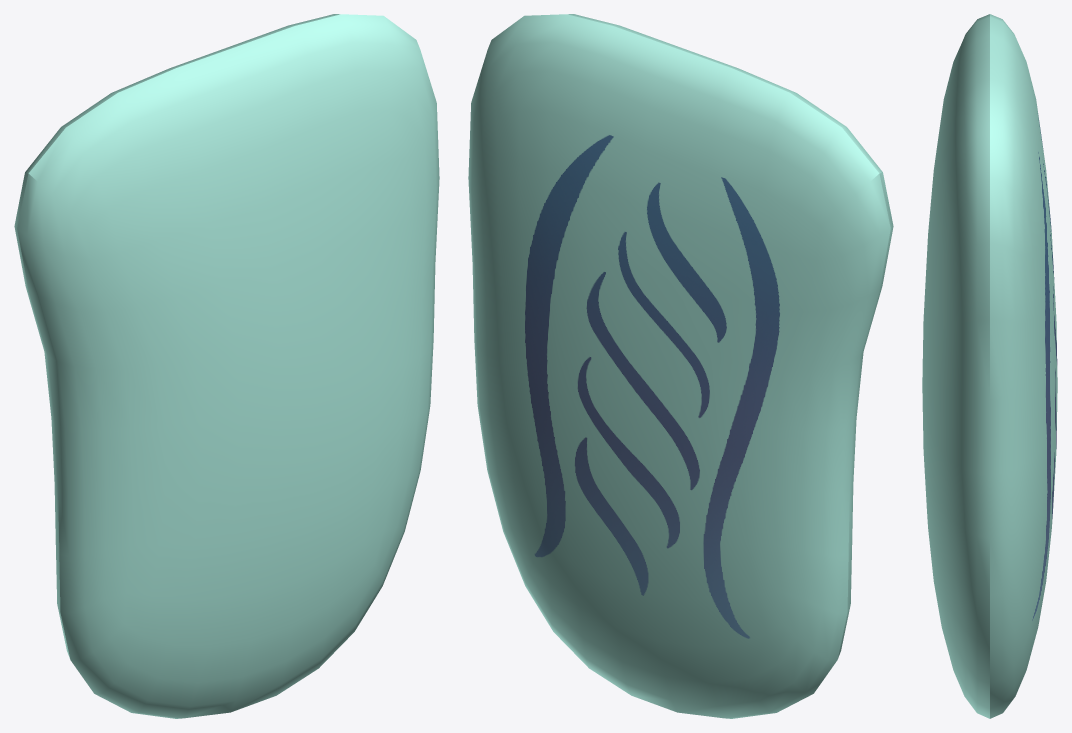
Rendered from WaterRune.fbx.
3 views of the same model, side by side, from view 1: azimuth 30°, elevation 25°; view 2: azimuth 150°, elevation 25°; view 3: azimuth 270°, elevation 25° (orthographic). The views are drawn at different scales.
Visible parts, largest first — view 1: Cube.002; view 2: Cube.002; view 3: Cube.002.
Boxes of the visible parts, bbox=[...] form: Cube.002: bbox=[14, 14, 439, 718]; Cube.002: bbox=[468, 14, 893, 718]; Cube.002: bbox=[922, 14, 1057, 718].
Bounding box in the file's own units: 56.34 × 86.09 × 16.13.
